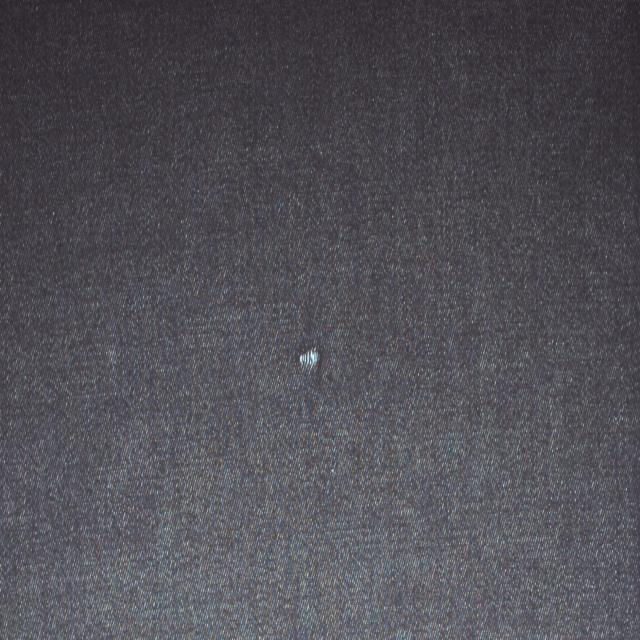Knot: (299, 348, 320, 370)
